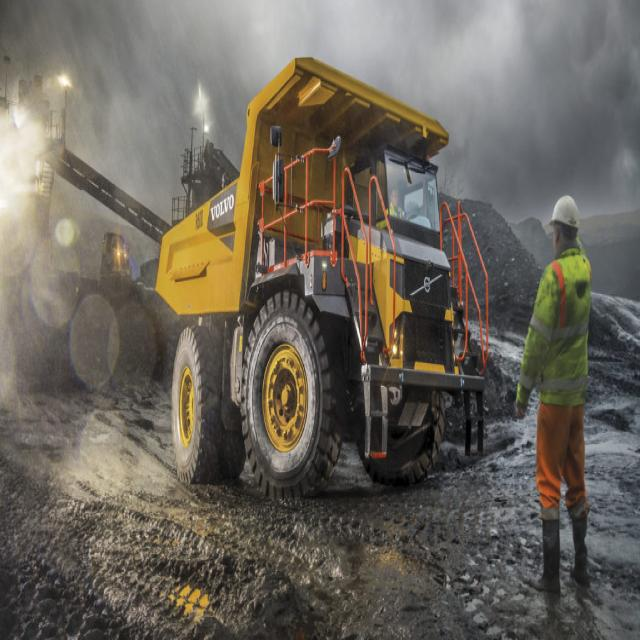dump_truck: (163, 54, 485, 522)
